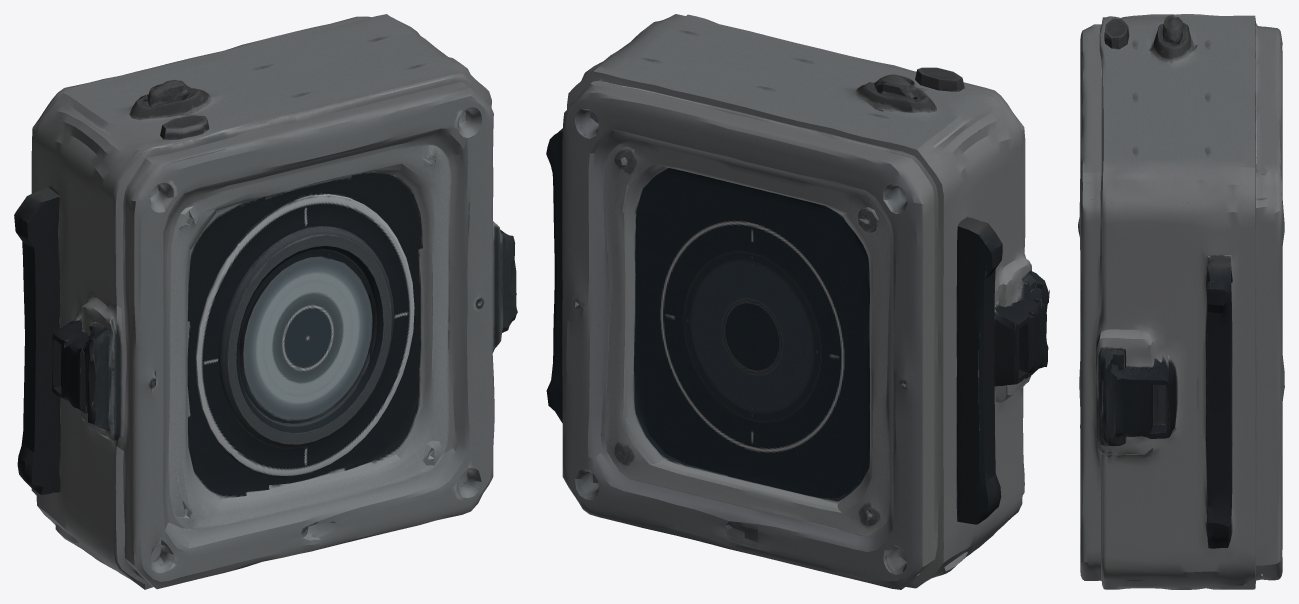
The model's file is receiver_body.gltf.
3 renders of one model, left to right at view 1: azimuth 30°, elevation 25°; view 2: azimuth 150°, elevation 25°; view 3: azimuth 270°, elevation 25°, orthographic. The views are drawn at different scales.
Visible parts, largest first — view 1: Body; view 2: Body; view 3: Body.
Part boxes in pixels (x1,y1,x2,y2): Body: (14, 14, 517, 589); Body: (546, 14, 1049, 589); Body: (1078, 14, 1284, 589).
Bounding box in the file's own units: 0.6 × 0.6 × 0.25.
Materials: 1 (1 with a texture image).
